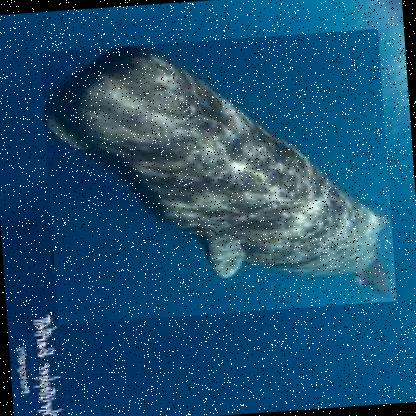sperm_whale: (38, 26, 396, 324)
